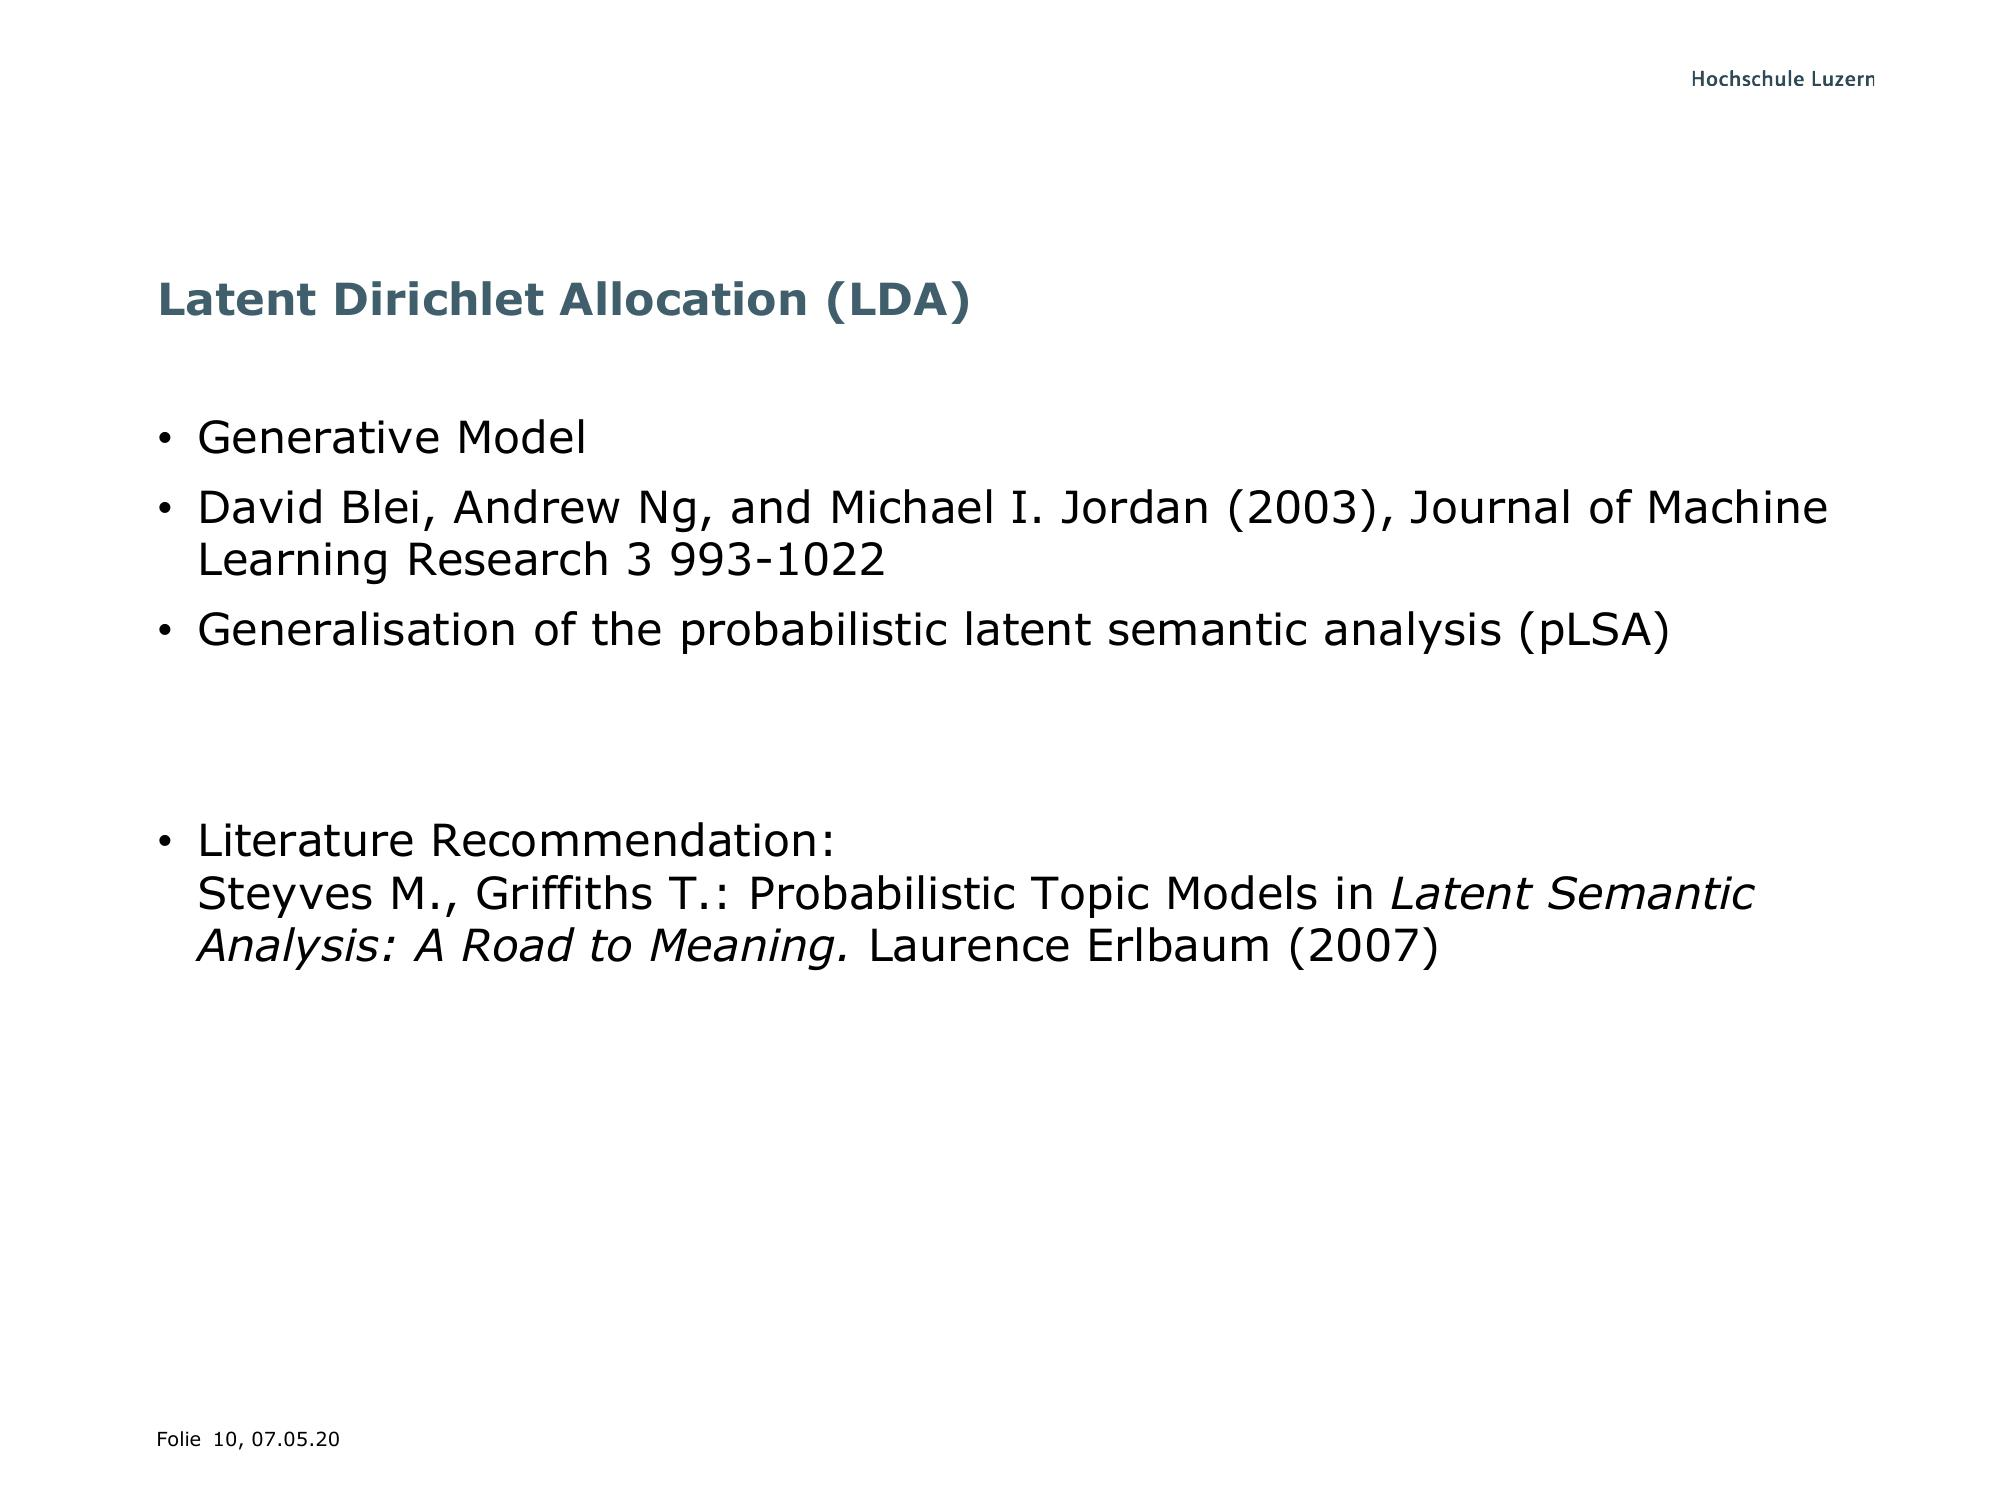Title: (117, 266, 986, 332)
